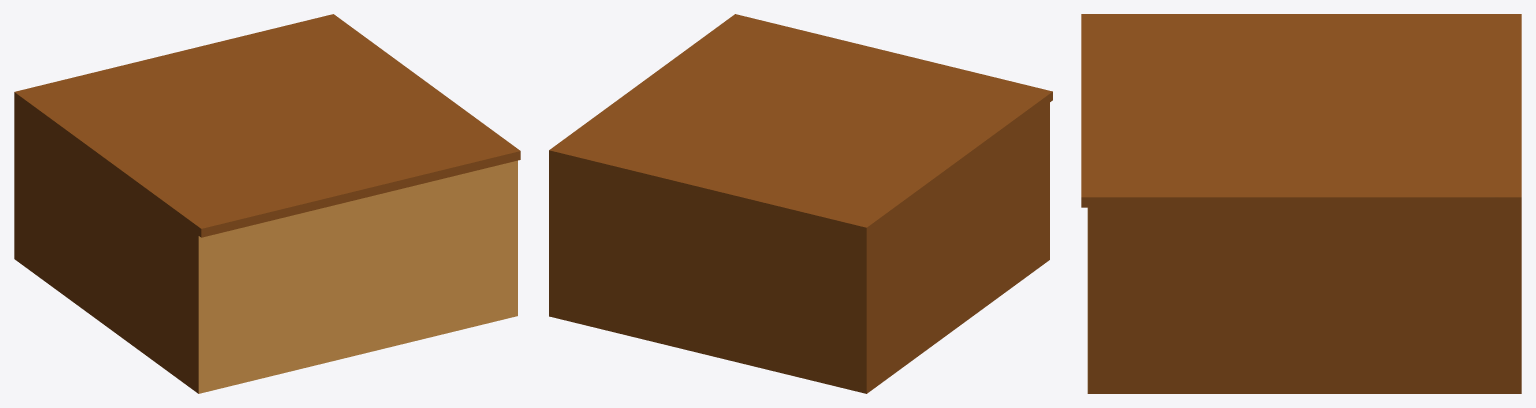
The model's file is BoardT.fbx.
3 views of the same model, side by side, from view 1: azimuth 30°, elevation 25°; view 2: azimuth 150°, elevation 25°; view 3: azimuth 270°, elevation 25° (orthographic). The views are drawn at different scales.
Visible parts, largest first — view 1: Bang1; view 2: Bang1; view 3: Bang1.
Boxes of the visible parts, box(x1,y1,x2,y2) form: Bang1: box(14, 14, 520, 393); Bang1: box(549, 14, 1052, 393); Bang1: box(1081, 14, 1521, 393).
Size of the model in its own units: 200 by 100 by 203.
1 material, 1 textured.
